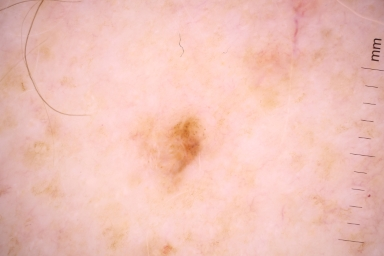melanoma: (159, 117, 203, 175)
